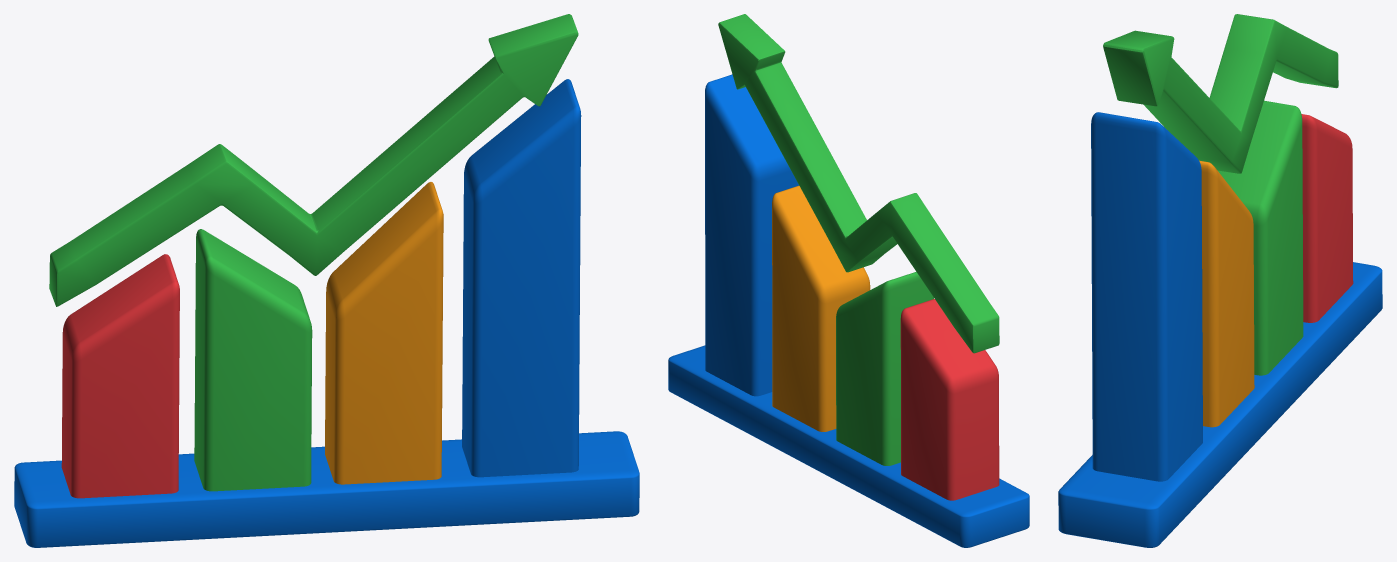
The model's file is graph-3d-animated-icon-271325999522.glb.
3 views of the same model, side by side, from view 1: azimuth 30°, elevation 25°; view 2: azimuth 150°, elevation 25°; view 3: azimuth 270°, elevation 25° (orthographic). The views are drawn at different scales.
Visible parts, largest first — view 1: Plane.002, Plane.004, Cube.003, Plane.001, Plane.003, Plane; view 2: Plane.002, Cube.003, Plane, Plane.004, Plane.001, Plane.003; view 3: Plane.002, Plane.004, Cube.003, Plane.003, Plane.001, Plane.
Boxes of the visible parts, bbox=[...] form: Plane.002: bbox=[462, 79, 581, 477]; Plane.004: bbox=[14, 431, 639, 547]; Cube.003: bbox=[49, 14, 578, 306]; Plane.001: bbox=[325, 182, 443, 484]; Plane.003: bbox=[194, 229, 312, 491]; Plane: bbox=[61, 254, 179, 498]; Plane.002: bbox=[705, 74, 798, 396]; Cube.003: bbox=[718, 14, 999, 353]; Plane: bbox=[900, 299, 999, 500]; Plane.004: bbox=[668, 345, 1029, 547]; Plane.001: bbox=[772, 185, 870, 431]; Plane.003: bbox=[836, 272, 933, 465]; Plane.002: bbox=[1091, 112, 1202, 481]; Plane.004: bbox=[1058, 262, 1382, 547]; Cube.003: bbox=[1103, 14, 1338, 173]; Plane.003: bbox=[1218, 100, 1303, 375]; Plane.001: bbox=[1199, 160, 1254, 427]; Plane: bbox=[1301, 114, 1353, 322].
Bounding box in the file's own units: 3.09 × 2.68 × 1.67.
